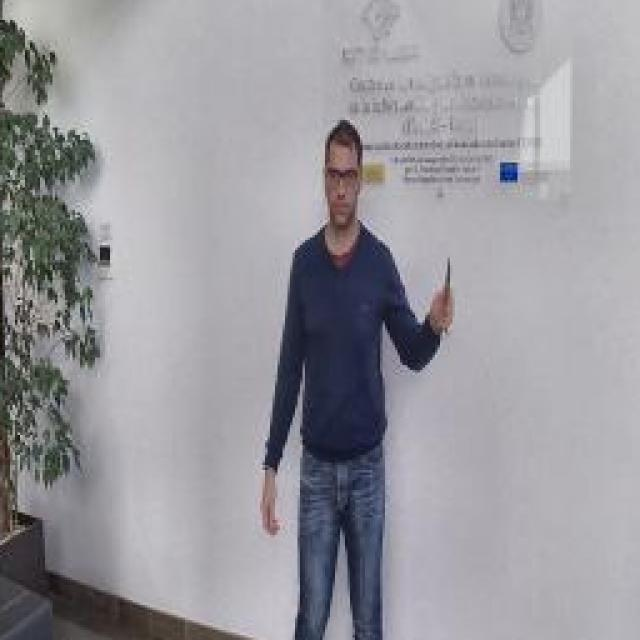knife: (440, 248, 458, 346)
